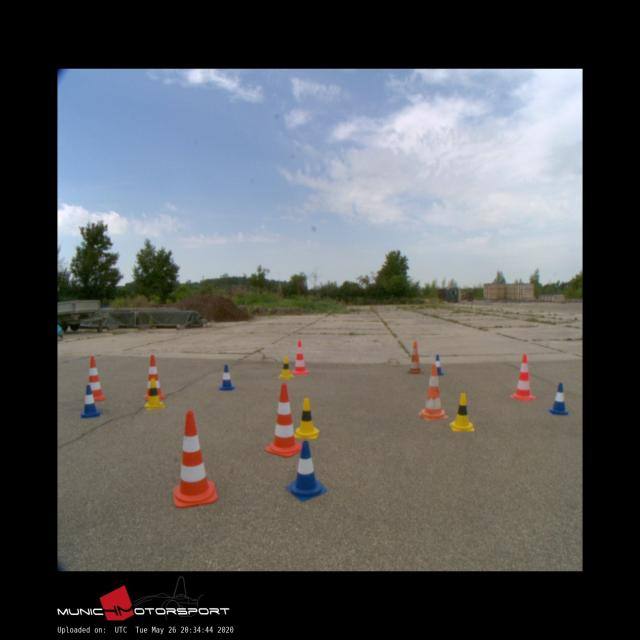blue_cone: (286, 441, 326, 501), (548, 383, 570, 415), (81, 385, 100, 417), (218, 364, 234, 390), (432, 355, 443, 375)
large_orange_cone: (174, 410, 217, 508), (264, 383, 304, 457), (418, 364, 448, 420), (509, 354, 536, 400), (84, 356, 105, 402), (144, 354, 165, 399), (292, 340, 308, 374), (407, 341, 423, 374)
yellow_cone: (295, 398, 319, 438), (449, 393, 474, 431), (145, 377, 164, 409), (278, 357, 293, 378)
